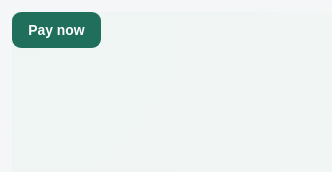
Test: PayNowButton › surfaces a declined payment and allows a retry
The width and height of the screenshot is (332, 172).
Later steps or results of the test are not shown.
Click the button "Pay now": (56, 30) x1=12 y1=12 x2=101 y2=48
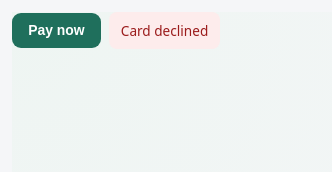
Result: the text "Card declined" is shown at x1=109 y1=12 x2=220 y2=49
